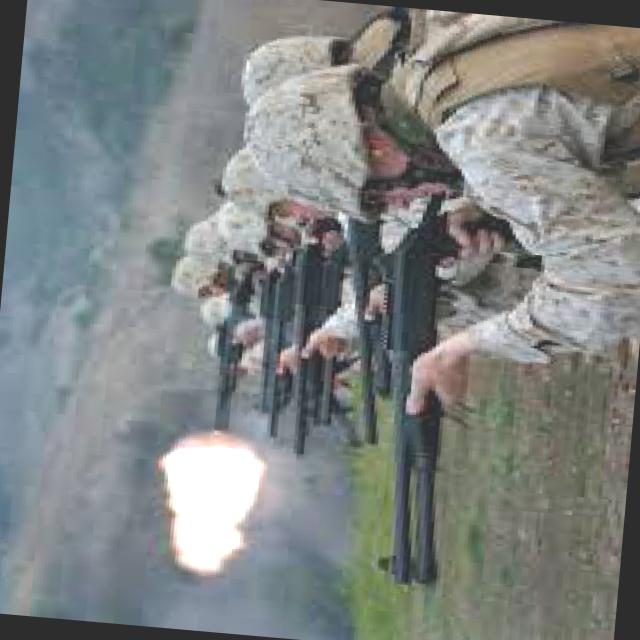long weapon: (369, 215, 487, 610), (284, 198, 374, 464), (255, 242, 306, 442), (208, 286, 253, 432)
